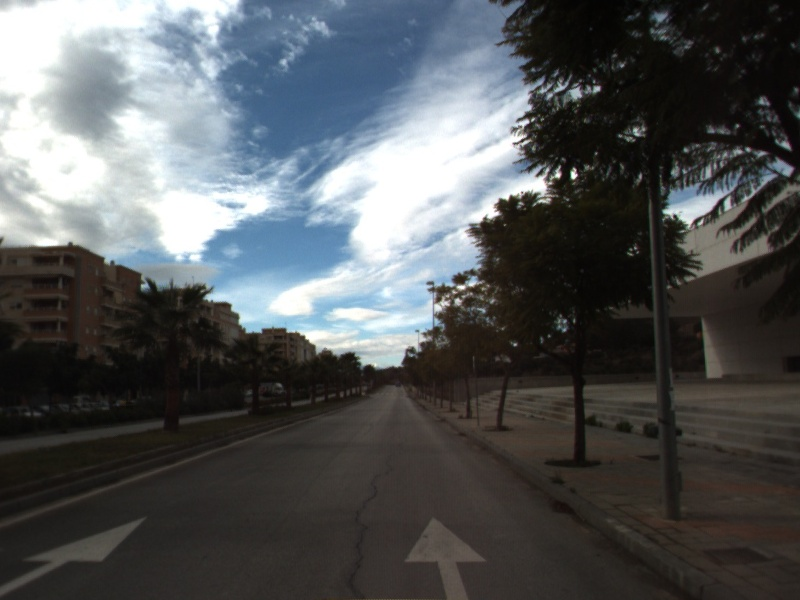STRAIGHT: (1, 514, 150, 598), (402, 514, 489, 600)
